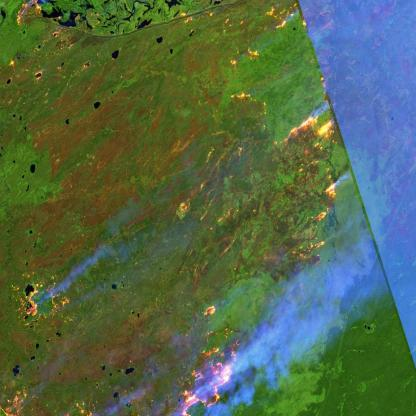fire: (166, 287, 246, 416), (288, 164, 347, 268), (226, 6, 296, 72), (10, 259, 69, 334), (280, 98, 332, 167), (1, 369, 36, 416), (13, 0, 43, 30), (71, 395, 100, 416)
